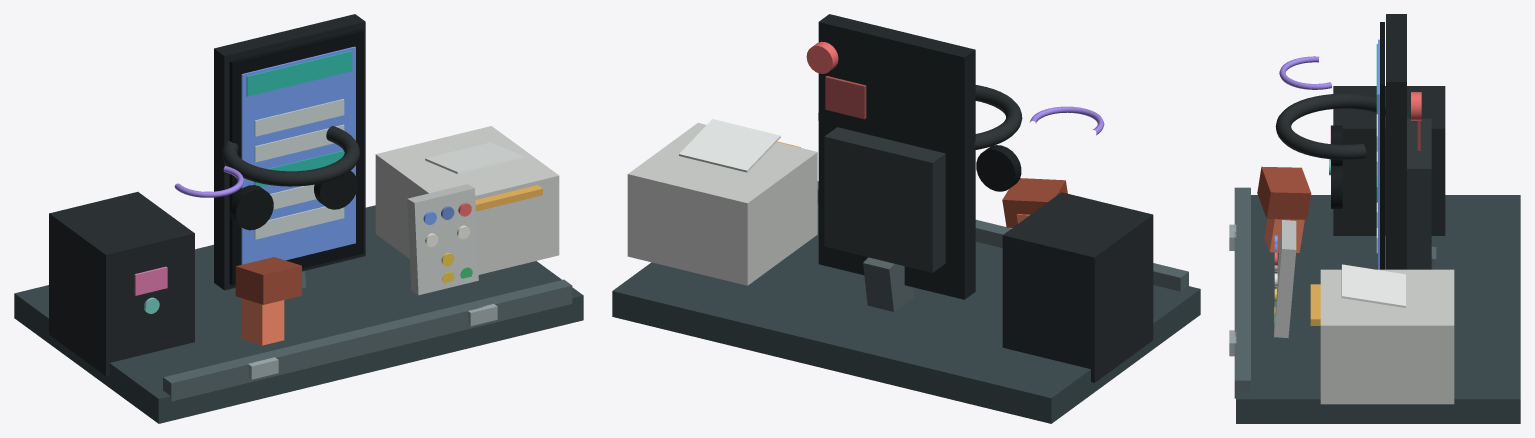
File: orthographic-pilot.glb
3 renders of one model, left to right at view 1: azimuth 30°, elevation 25°; view 2: azimuth 150°, elevation 25°; view 3: azimuth 270°, elevation 25°, orthographic. The views are drawn at different scales.
Parts seen in each view (by area): view 1: ClearAccess_All_In_One_Case_Base, ClearAccess_UPS_Tower, ClearAccess_Printer_Body, ClearAccess_Ballot_Interface, ClearAccess_Case_Lip, ClearAccess_Portrait_Elo_Housing, ClearAccess_Portrait_Elo_Bezel, ClearAccess_Storm_Keypad_Body, ClearAccess_Headphone_Band, ClearAccess_Barcode_Head, ClearAccess_Interface_Header, ClearAccess_Barcode_Grip (+12 smaller); view 2: ClearAccess_All_In_One_Case_Base, ClearAccess_UPS_Tower, ClearAccess_Portrait_Elo_Housing, ClearAccess_Printer_Body, ClearAccess_Elo_Rear_Housing, ClearAccess_Printed_Ballot, ClearAccess_Elo_Stand, ClearAccess_Barcode_Head, ClearAccess_Headphone_Cup_1, ClearAccess_Headphone_Band, ClearAccess_Case_Lip, ClearAccess_EMI_Shield_Patch (+2 smaller); view 3: ClearAccess_All_In_One_Case_Base, ClearAccess_Printer_Body, ClearAccess_UPS_Tower, ClearAccess_Portrait_Elo_Housing, ClearAccess_Elo_Rear_Housing, ClearAccess_Case_Lip, ClearAccess_Headphone_Band, ClearAccess_Barcode_Head, ClearAccess_Printed_Ballot, ClearAccess_Storm_Keypad_Body, ClearAccess_Portrait_Elo_Bezel, ClearAccess_Barcode_Grip (+6 smaller).
Boxes of the visible parts, box(x1,y1,x2,y2) form: ClearAccess_All_In_One_Case_Base: box(14, 205, 583, 423); ClearAccess_UPS_Tower: box(49, 192, 194, 376); ClearAccess_Printer_Body: box(375, 126, 559, 274); ClearAccess_Ballot_Interface: box(241, 46, 355, 264); ClearAccess_Case_Lip: box(163, 279, 572, 401); ClearAccess_Portrait_Elo_Housing: box(214, 14, 365, 290); ClearAccess_Portrait_Elo_Bezel: box(229, 29, 363, 285); ClearAccess_Storm_Keypad_Body: box(407, 184, 478, 295); ClearAccess_Headphone_Band: box(222, 126, 359, 186); ClearAccess_Barcode_Head: box(235, 257, 301, 304); ClearAccess_Interface_Header: box(246, 51, 352, 96); ClearAccess_Barcode_Grip: box(242, 298, 284, 345); ClearAccess_All_In_One_Case_Base: box(612, 203, 1200, 423); ClearAccess_UPS_Tower: box(1002, 192, 1153, 382); ClearAccess_Portrait_Elo_Housing: box(818, 14, 975, 299); ClearAccess_Printer_Body: box(627, 123, 817, 285); ClearAccess_Elo_Rear_Housing: box(824, 127, 945, 272); ClearAccess_Printed_Ballot: box(679, 119, 780, 172); ClearAccess_Elo_Stand: box(863, 257, 913, 311); ClearAccess_Barcode_Head: box(1002, 178, 1067, 227); ClearAccess_Headphone_Cup_1: box(976, 145, 1021, 191); ClearAccess_Headphone_Band: box(941, 85, 1022, 149); ClearAccess_Case_Lip: box(817, 181, 1188, 291); ClearAccess_EMI_Shield_Patch: box(825, 76, 866, 119); ClearAccess_All_In_One_Case_Base: box(1236, 195, 1520, 423); ClearAccess_Printer_Body: box(1320, 269, 1454, 404); ClearAccess_UPS_Tower: box(1333, 86, 1445, 235); ClearAccess_Portrait_Elo_Housing: box(1386, 14, 1406, 269); ClearAccess_Elo_Rear_Housing: box(1407, 118, 1431, 269); ClearAccess_Case_Lip: box(1234, 187, 1250, 398); ClearAccess_Headphone_Band: box(1275, 93, 1385, 159); ClearAccess_Barcode_Head: box(1257, 166, 1311, 219); ClearAccess_Printed_Ballot: box(1341, 264, 1405, 307); ClearAccess_Storm_Keypad_Body: box(1274, 220, 1296, 338); ClearAccess_Portrait_Elo_Bezel: box(1380, 22, 1384, 269); ClearAccess_Barcode_Grip: box(1264, 219, 1304, 252).
Size of the model in its own units: 5.63 by 3.34 by 3.23.
